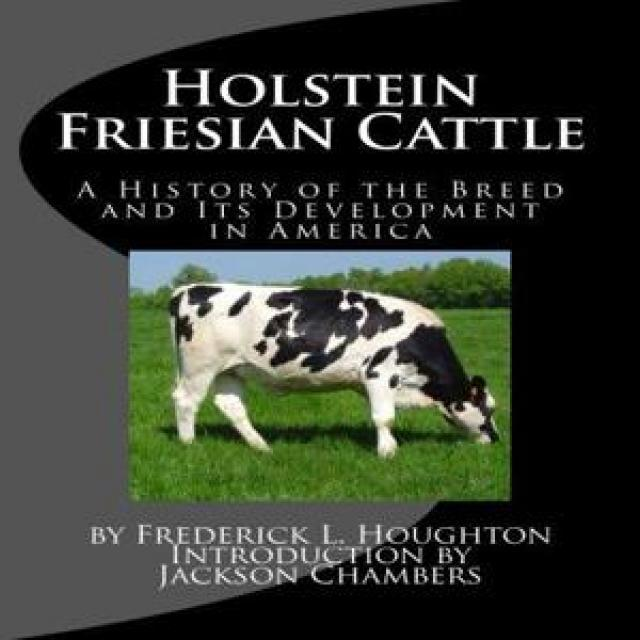cow: (170, 284, 498, 457)
